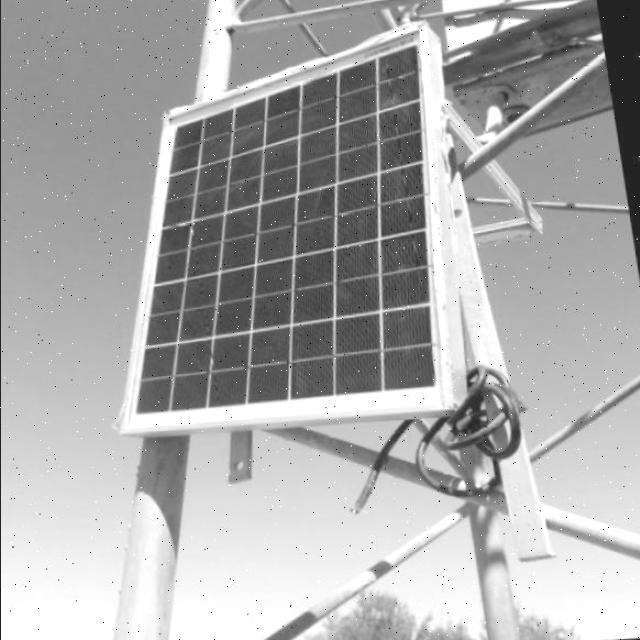Normal Solar Panel: (73, 21, 485, 439)
